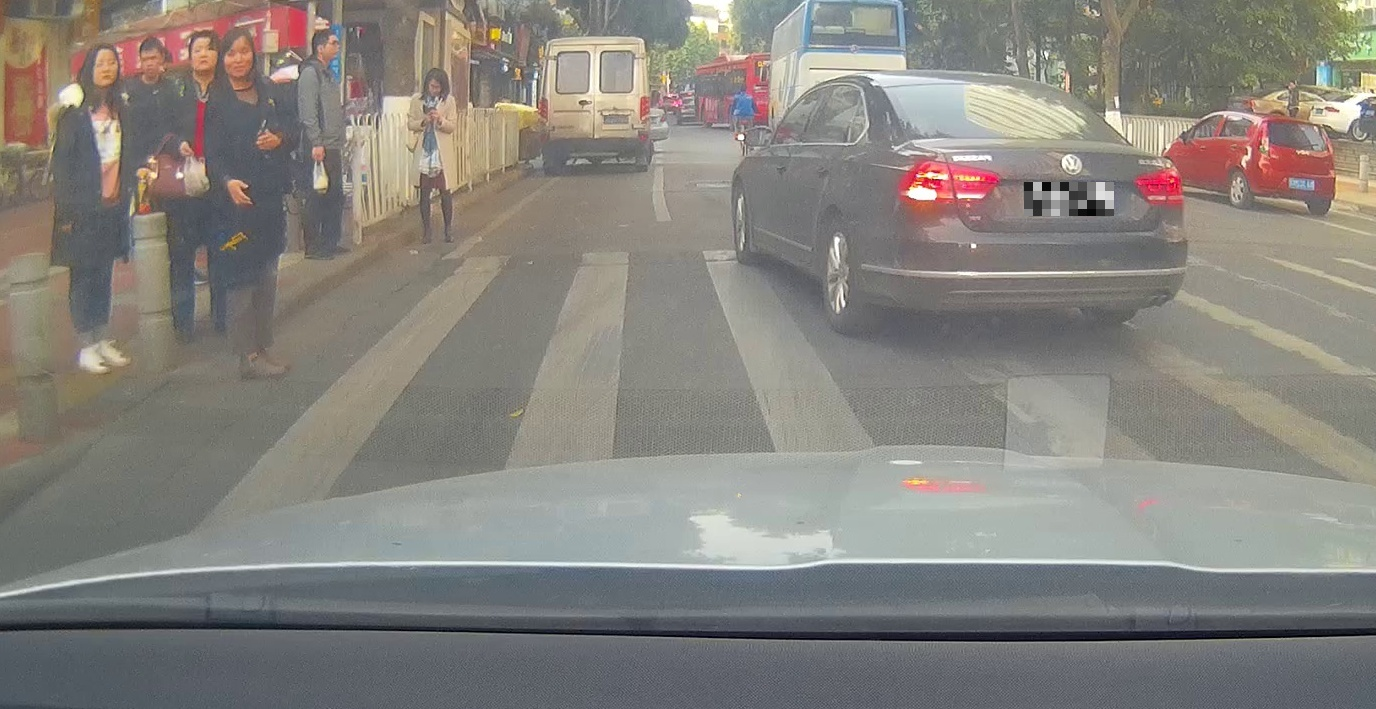L_light: (896, 157, 1002, 205), (1258, 145, 1279, 162), (537, 95, 549, 122)
R_light: (1131, 164, 1186, 208), (639, 96, 650, 121), (1322, 151, 1335, 165)
T_light: (962, 82, 998, 94), (586, 42, 605, 50), (1291, 124, 1307, 129)
day-left: (893, 71, 1188, 326)
day-no: (536, 36, 651, 176), (1254, 116, 1336, 216)
plate_1: (1024, 182, 1114, 216)
